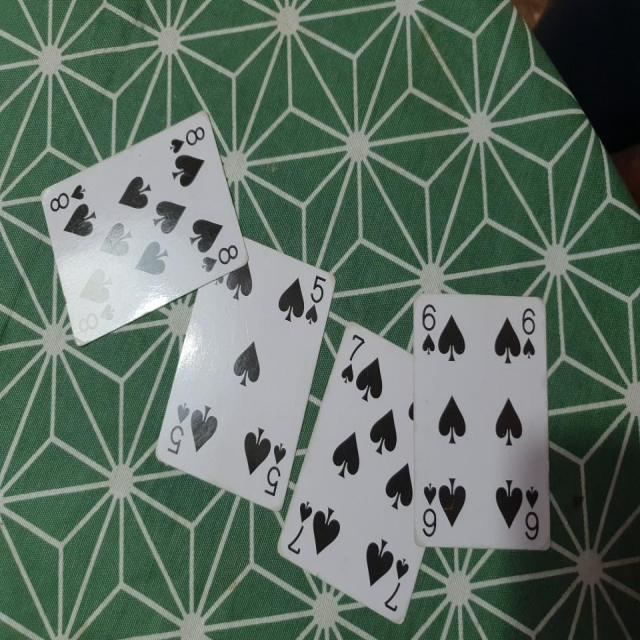5 Spades: (160, 232, 343, 512)
6 Spades: (409, 290, 559, 546)
7 Spades: (271, 310, 440, 640)
8 Spades: (39, 105, 248, 338)
